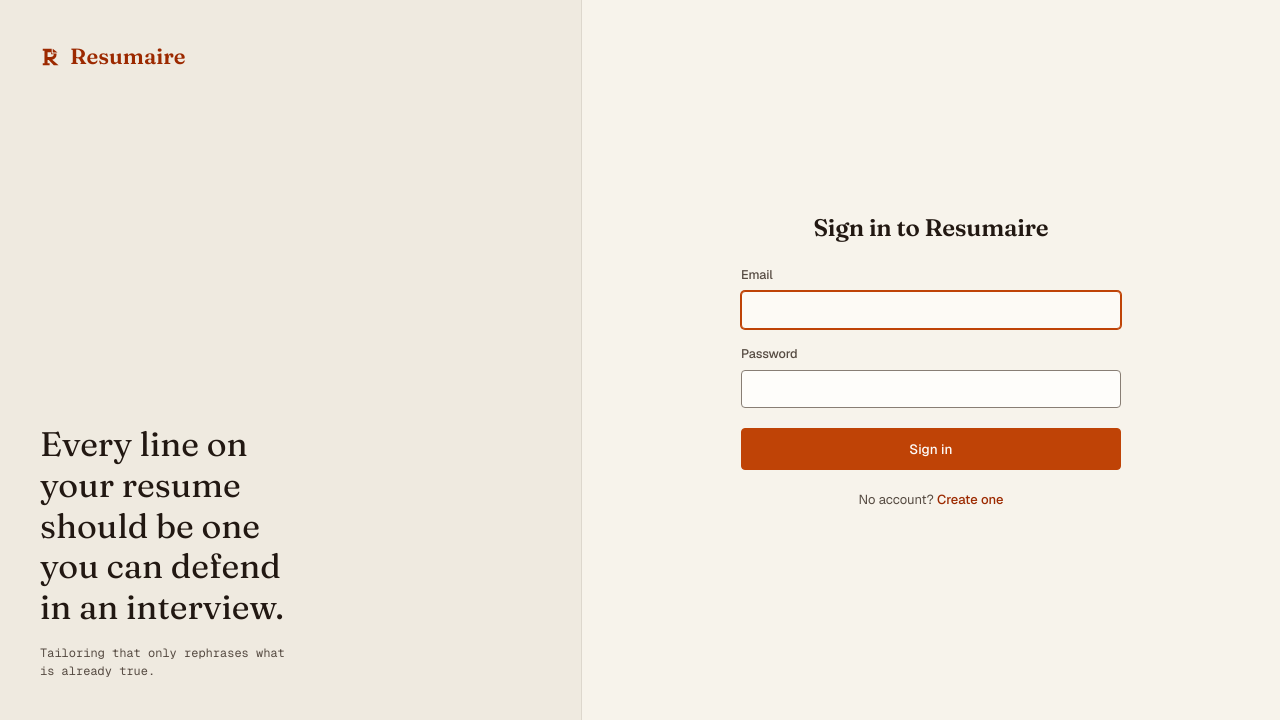
Test case: App auth flows › logs in, stores the token, and shows the dashboard
Step 1. Type "ada@example.test" into the field labelled "Email" → x=931, y=310, box x1=741 y1=291 x2=1121 y2=329
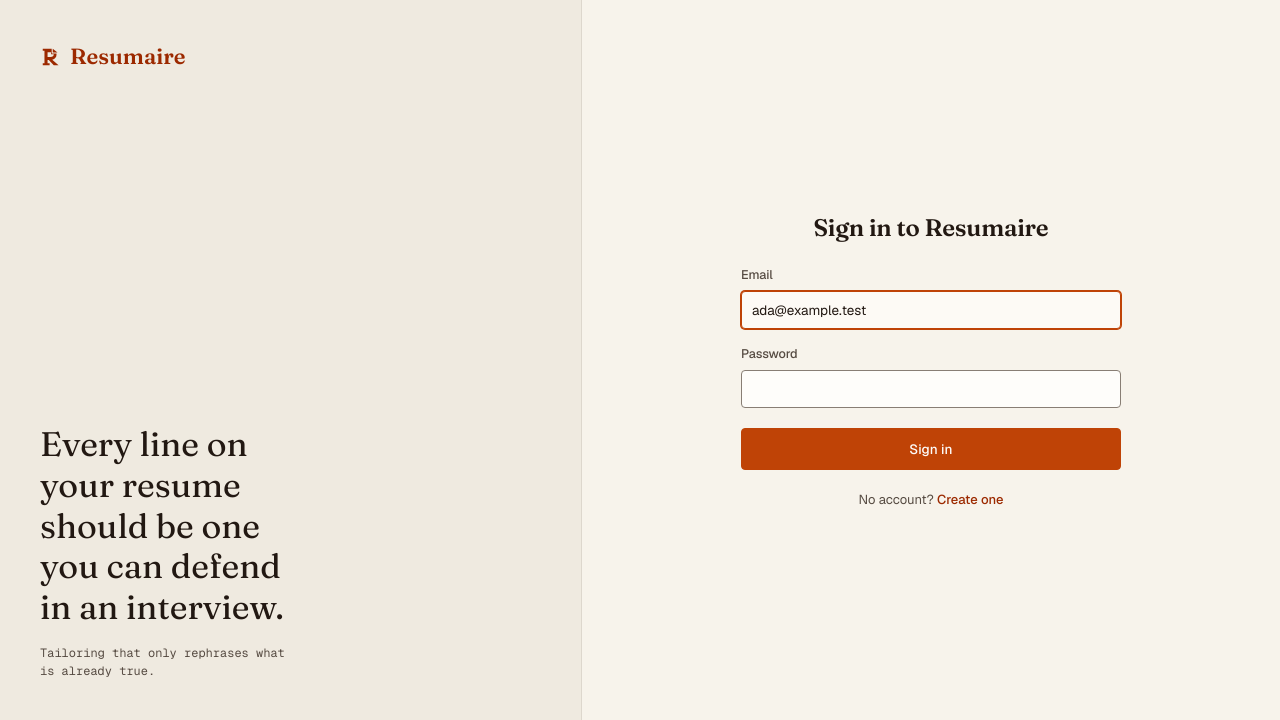
Step 2. Type "correct-password" into the password field labelled "Password" → x=931, y=389, box x1=741 y1=370 x2=1121 y2=408
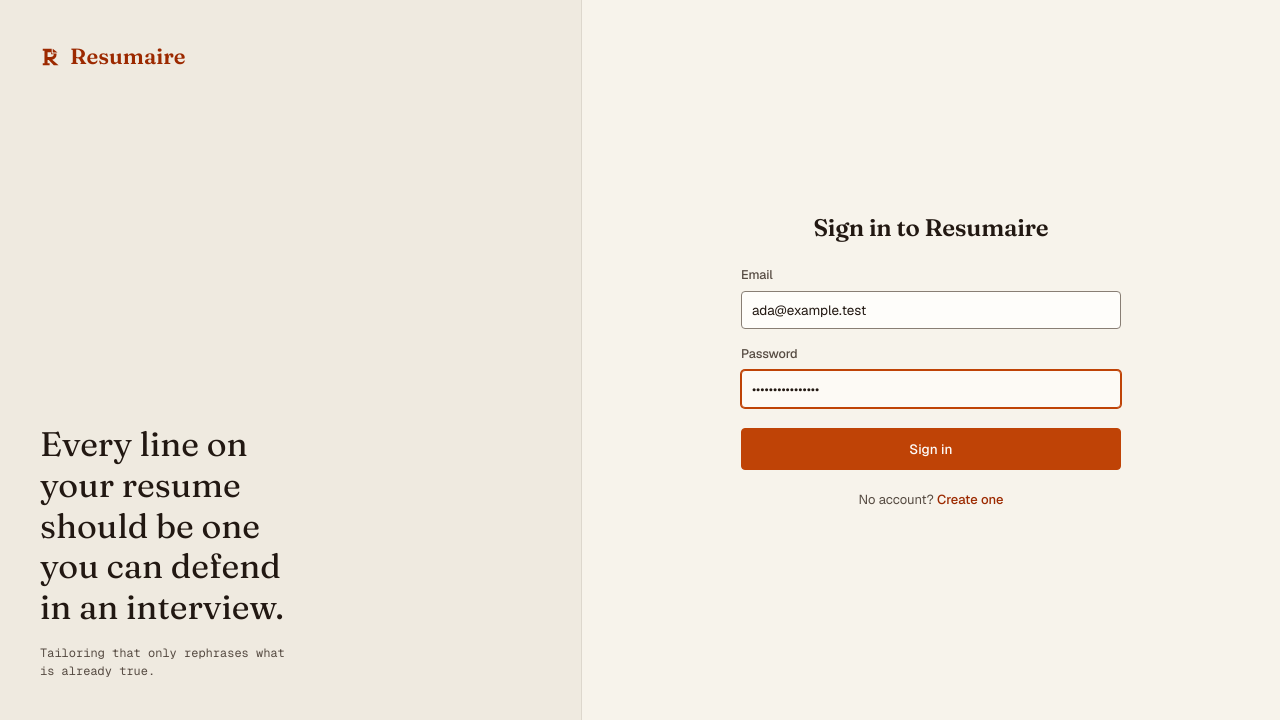
Step 3. Click the button "Sign in" → x=931, y=449, box x1=741 y1=428 x2=1121 y2=470
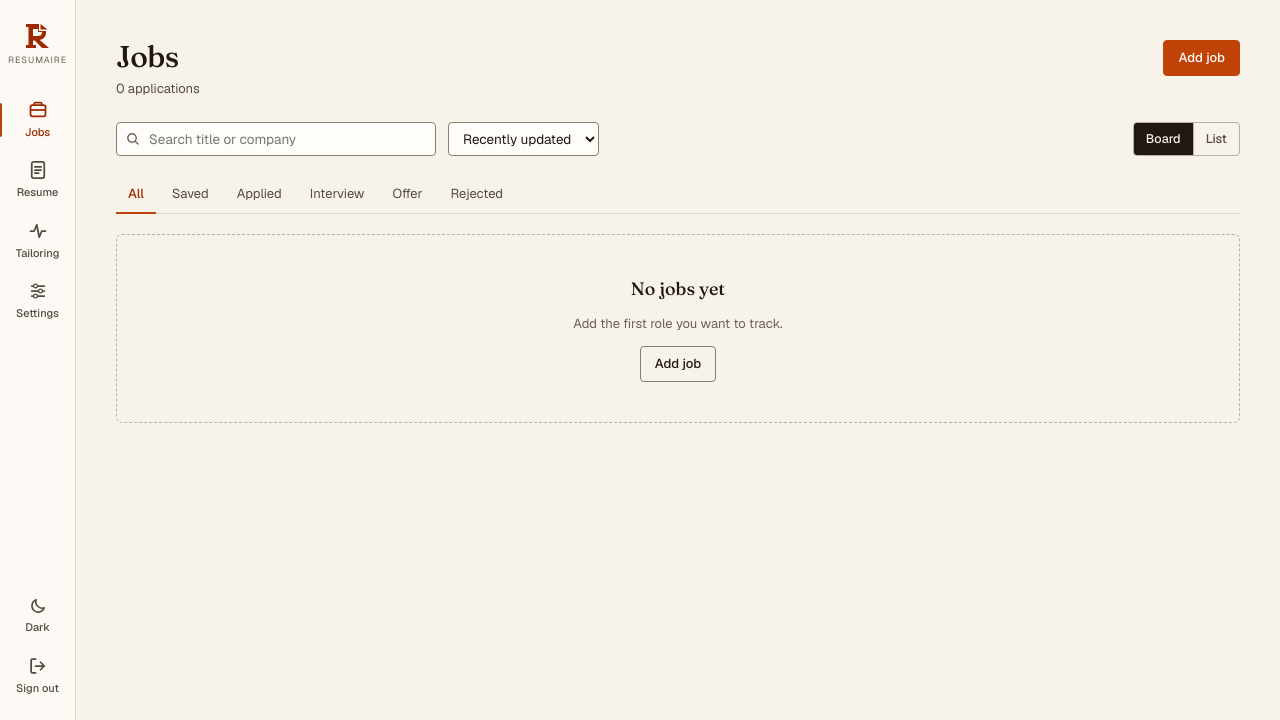
Check: the heading "Jobs" is shown, box x1=116 y1=38 x2=178 y2=75
